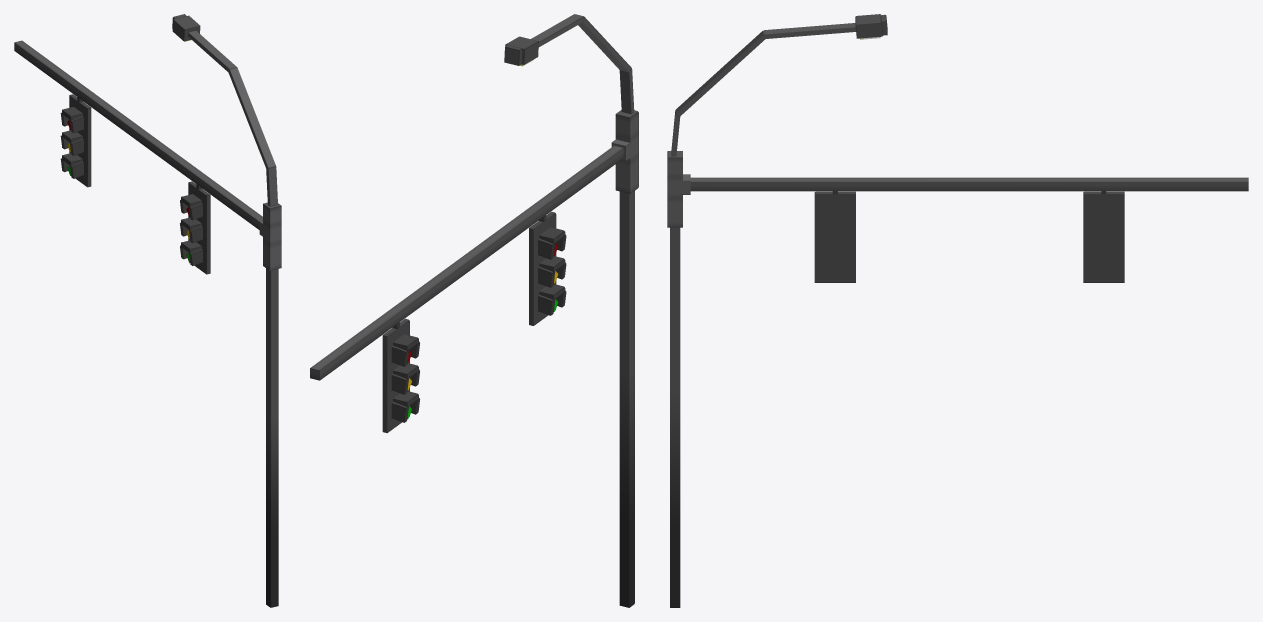
Rendered from traffic_lights.obj.
3 views of the same model, side by side, from view 1: azimuth 30°, elevation 25°; view 2: azimuth 150°, elevation 25°; view 3: azimuth 270°, elevation 25° (orthographic). The views are drawn at different scales.
Parts seen in each view (by area): view 1: baseModel0, baseModel2, baseModel1, baseModel4, baseModel35, baseModel10, baseModel5, baseModel6, baseModel3; view 2: baseModel0, baseModel2, baseModel1, baseModel35, baseModel10, baseModel4, baseModel5, baseModel3, baseModel6; view 3: baseModel2, baseModel0, baseModel35, baseModel10, baseModel1, baseModel4, baseModel5.
Part boxes in pixels (<box>): baseModel0: <box>266,208,278,607</box>; baseModel2: <box>14,40,262,229</box>; baseModel1: <box>263,202,281,270</box>; baseModel4: <box>228,67,275,168</box>; baseModel35: <box>69,94,91,187</box>; baseModel10: <box>188,181,210,274</box>; baseModel5: <box>184,29,236,72</box>; baseModel6: <box>172,15,200,41</box>; baseModel3: <box>266,166,277,206</box>; baseModel0: <box>619,191,634,607</box>; baseModel2: <box>310,145,623,380</box>; baseModel1: <box>615,110,638,193</box>; baseModel35: <box>382,318,409,433</box>; baseModel10: <box>529,211,556,325</box>; baseModel4: <box>578,17,631,72</box>; baseModel5: <box>524,14,584,50</box>; baseModel3: <box>619,68,634,114</box>; baseModel6: <box>505,36,538,64</box>; baseModel2: <box>690,177,1248,191</box>; baseModel0: <box>670,227,680,607</box>; baseModel35: <box>1083,191,1124,282</box>; baseModel10: <box>814,191,855,282</box>; baseModel1: <box>667,151,682,227</box>; baseModel4: <box>675,31,766,117</box>; baseModel5: <box>763,23,855,38</box>.
Bounding box in the file's own units: 0.375 × 7.85 × 7.03.
1 material, 1 textured.
